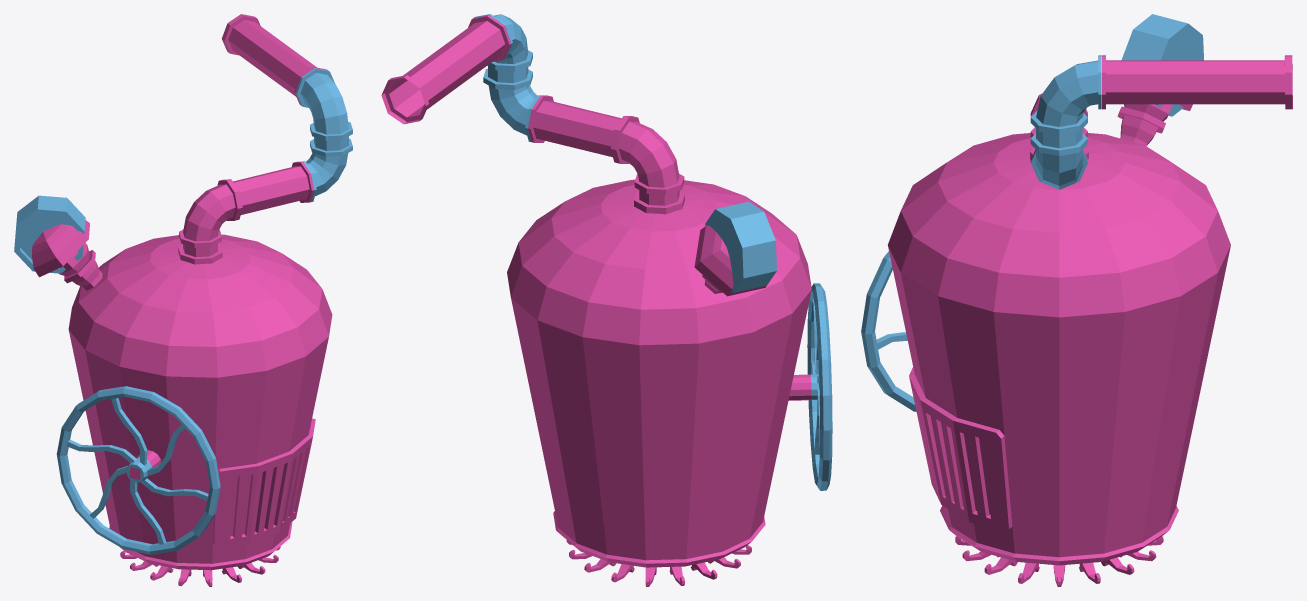
Rendered from steampunk_engine.fbx.
3 views of the same model, side by side, from view 1: azimuth 30°, elevation 25°; view 2: azimuth 150°, elevation 25°; view 3: azimuth 270°, elevation 25° (orthographic). The views are drawn at different scales.
Parts seen in each view (by area): view 1: steampunk_engine, steampunk_engine_wheel, steampunk_engine_pipe, stampunk_engine_gauge, steampunk_engine_cork; view 2: steampunk_engine, steampunk_engine_wheel, stampunk_engine_gauge, steampunk_engine_pipe, steampunk_engine_cork; view 3: steampunk_engine, steampunk_engine_pipe, stampunk_engine_gauge, steampunk_engine_wheel.
Part boxes in pixels (<box>): steampunk_engine: <box>64,14,332,586</box>; steampunk_engine_wheel: <box>56,386,220,554</box>; steampunk_engine_pipe: <box>295,68,352,201</box>; stampunk_engine_gauge: <box>14,195,85,273</box>; steampunk_engine_cork: <box>32,220,89,277</box>; steampunk_engine: <box>381,15,811,586</box>; steampunk_engine_wheel: <box>807,283,832,490</box>; stampunk_engine_gauge: <box>705,201,776,292</box>; steampunk_engine_pipe: <box>474,14,548,142</box>; steampunk_engine_cork: <box>694,225,766,296</box>; steampunk_engine: <box>888,55,1292,586</box>; steampunk_engine_pipe: <box>1030,55,1101,189</box>; stampunk_engine_gauge: <box>1121,14,1203,116</box>; steampunk_engine_wheel: <box>861,251,916,411</box>.
Size of the model in its own units: 189 by 270 by 185.
